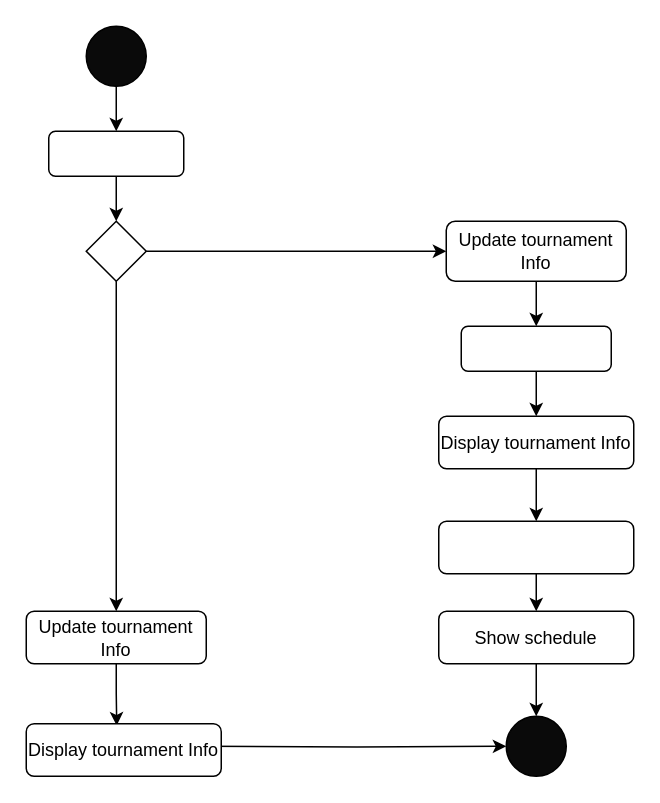
This 660x803 diagram has some shape labels left out. The centre of each missing label's shape, as x and y in pixels:
Check requirment: pixel 115 153
Close registration: pixel 535 348
Generate schedule: pixel 535 547
